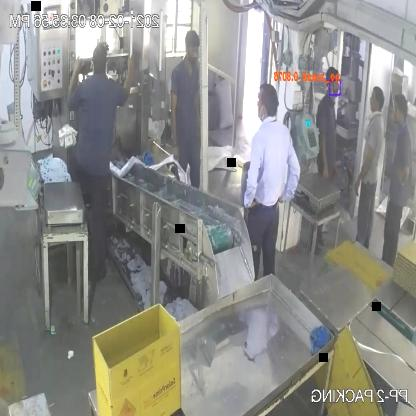no_glove: (241, 138, 270, 217), (275, 134, 302, 214), (352, 136, 378, 200), (64, 50, 87, 118), (165, 78, 182, 159), (114, 51, 136, 110), (188, 74, 204, 153), (318, 126, 338, 178), (395, 147, 412, 192)
